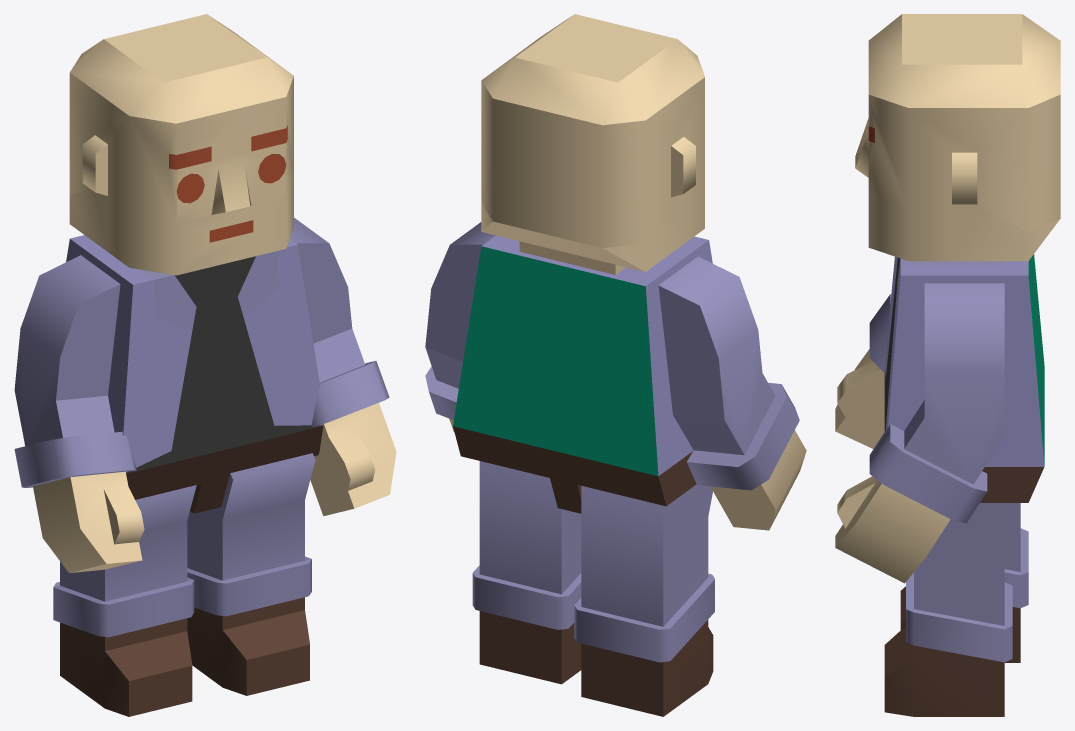
Rendered from Just_A_Dude.fbx.
3 views of the same model, side by side, from view 1: azimuth 30°, elevation 25°; view 2: azimuth 150°, elevation 25°; view 3: azimuth 270°, elevation 25° (orthographic).
Visible parts, largest first — view 1: mergedBlocks; view 2: mergedBlocks; view 3: mergedBlocks.
Boxes of the visible parts, bbox=[...] form: mergedBlocks: bbox=[14, 14, 396, 716]; mergedBlocks: bbox=[425, 14, 806, 716]; mergedBlocks: bbox=[835, 14, 1060, 716].
Bounding box in the file's own units: 4.91 × 8.7 × 2.82.
